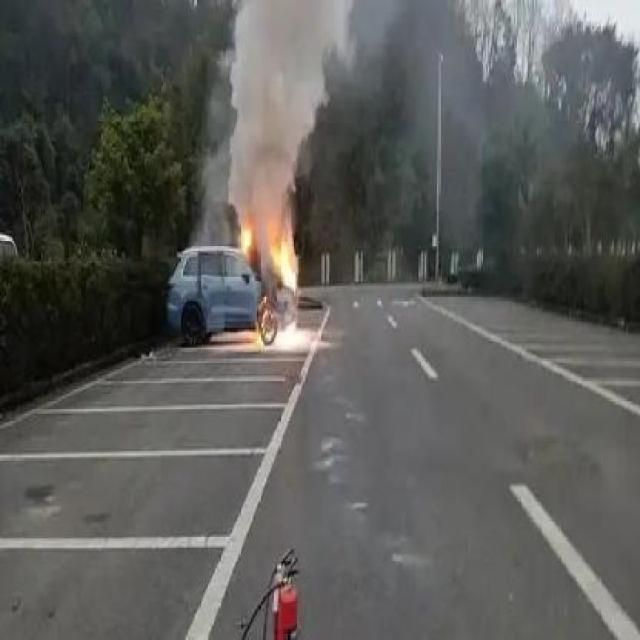Fire: (270, 218, 298, 290), (258, 324, 298, 347), (238, 218, 252, 256)
Smoke: (234, 8, 323, 224)
